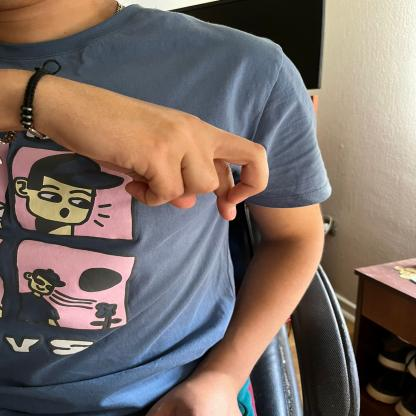P: (37, 70, 275, 222)
